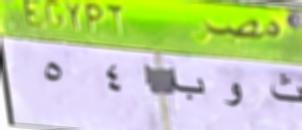4: (102, 59, 126, 98)
5: (38, 59, 67, 86)
baa: (167, 73, 208, 107)
thaa: (264, 71, 302, 112)
waw: (219, 78, 248, 112)
